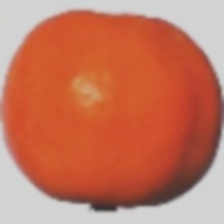tangerine: (61, 28, 201, 220)
